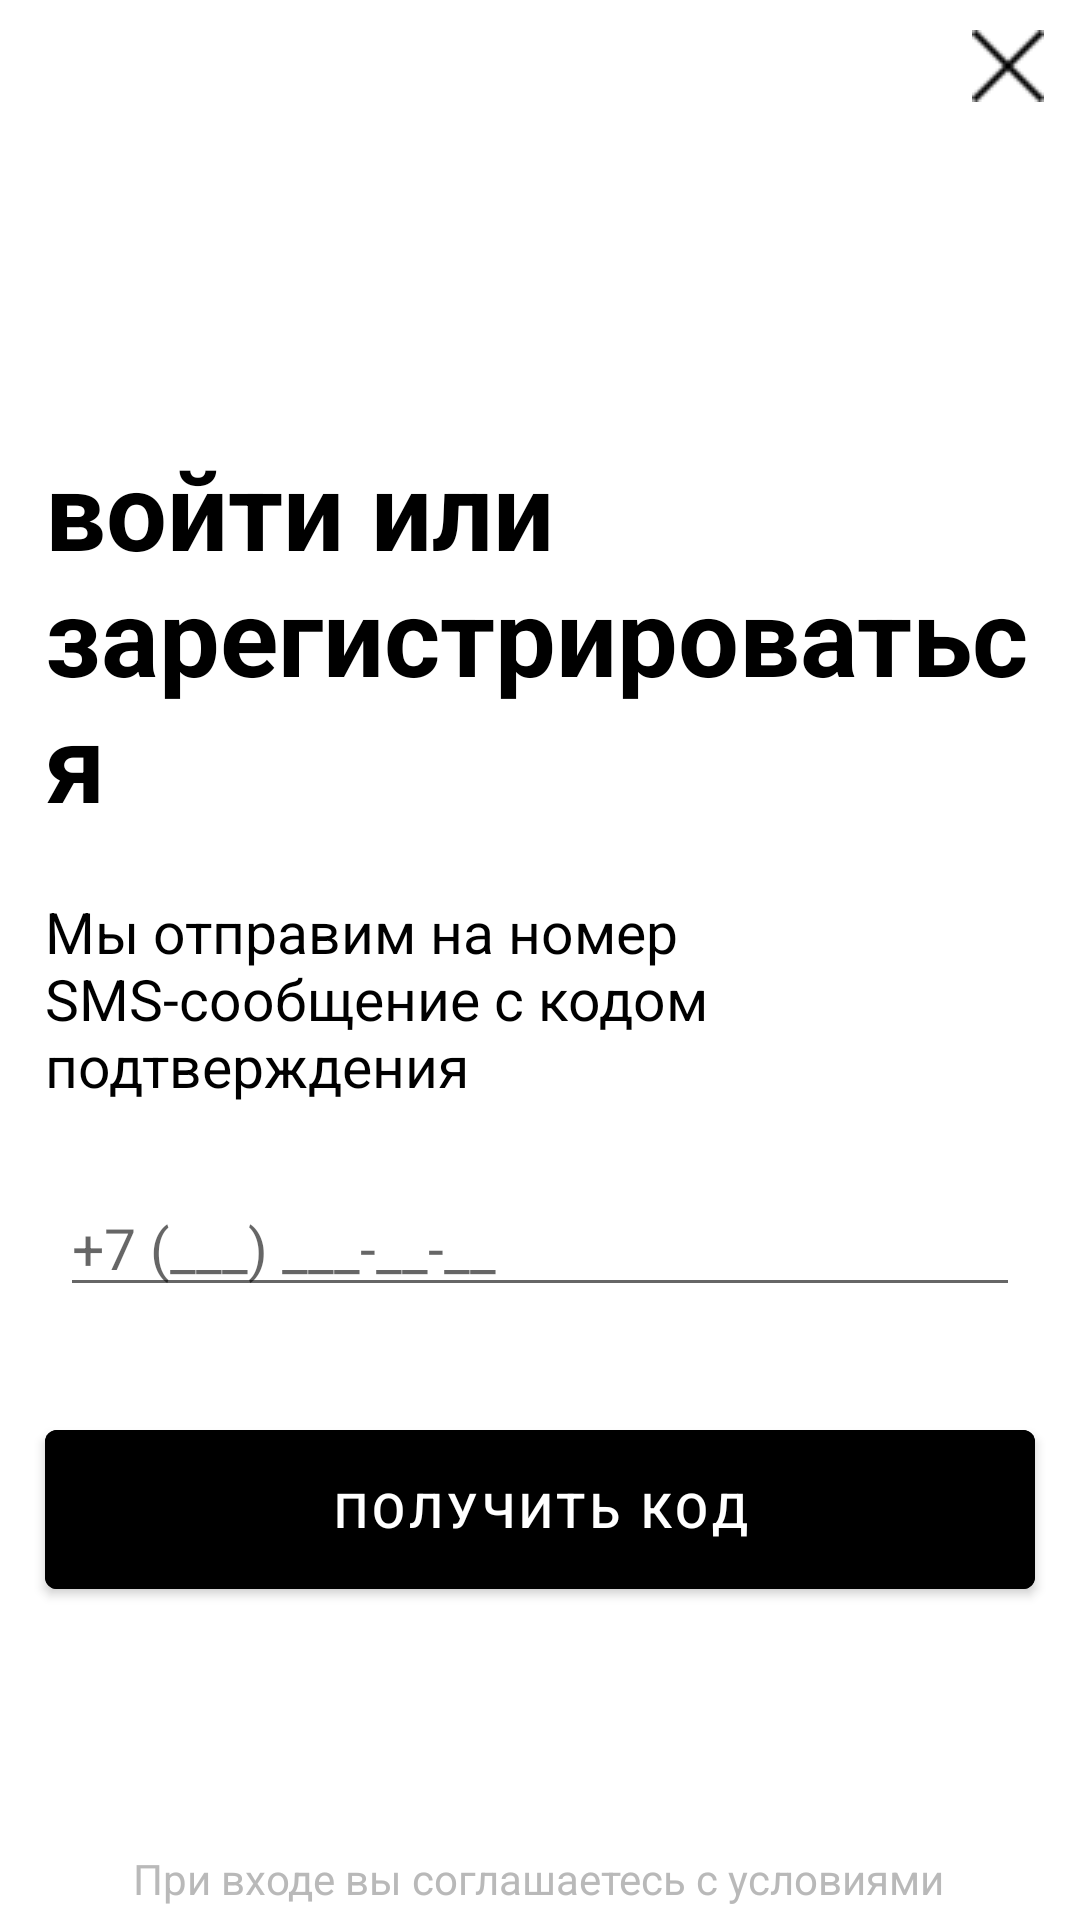

Icons on this 1080px×1920px Android screen, each with the point to tap as point (x, y):
cross: point (1008, 66)
